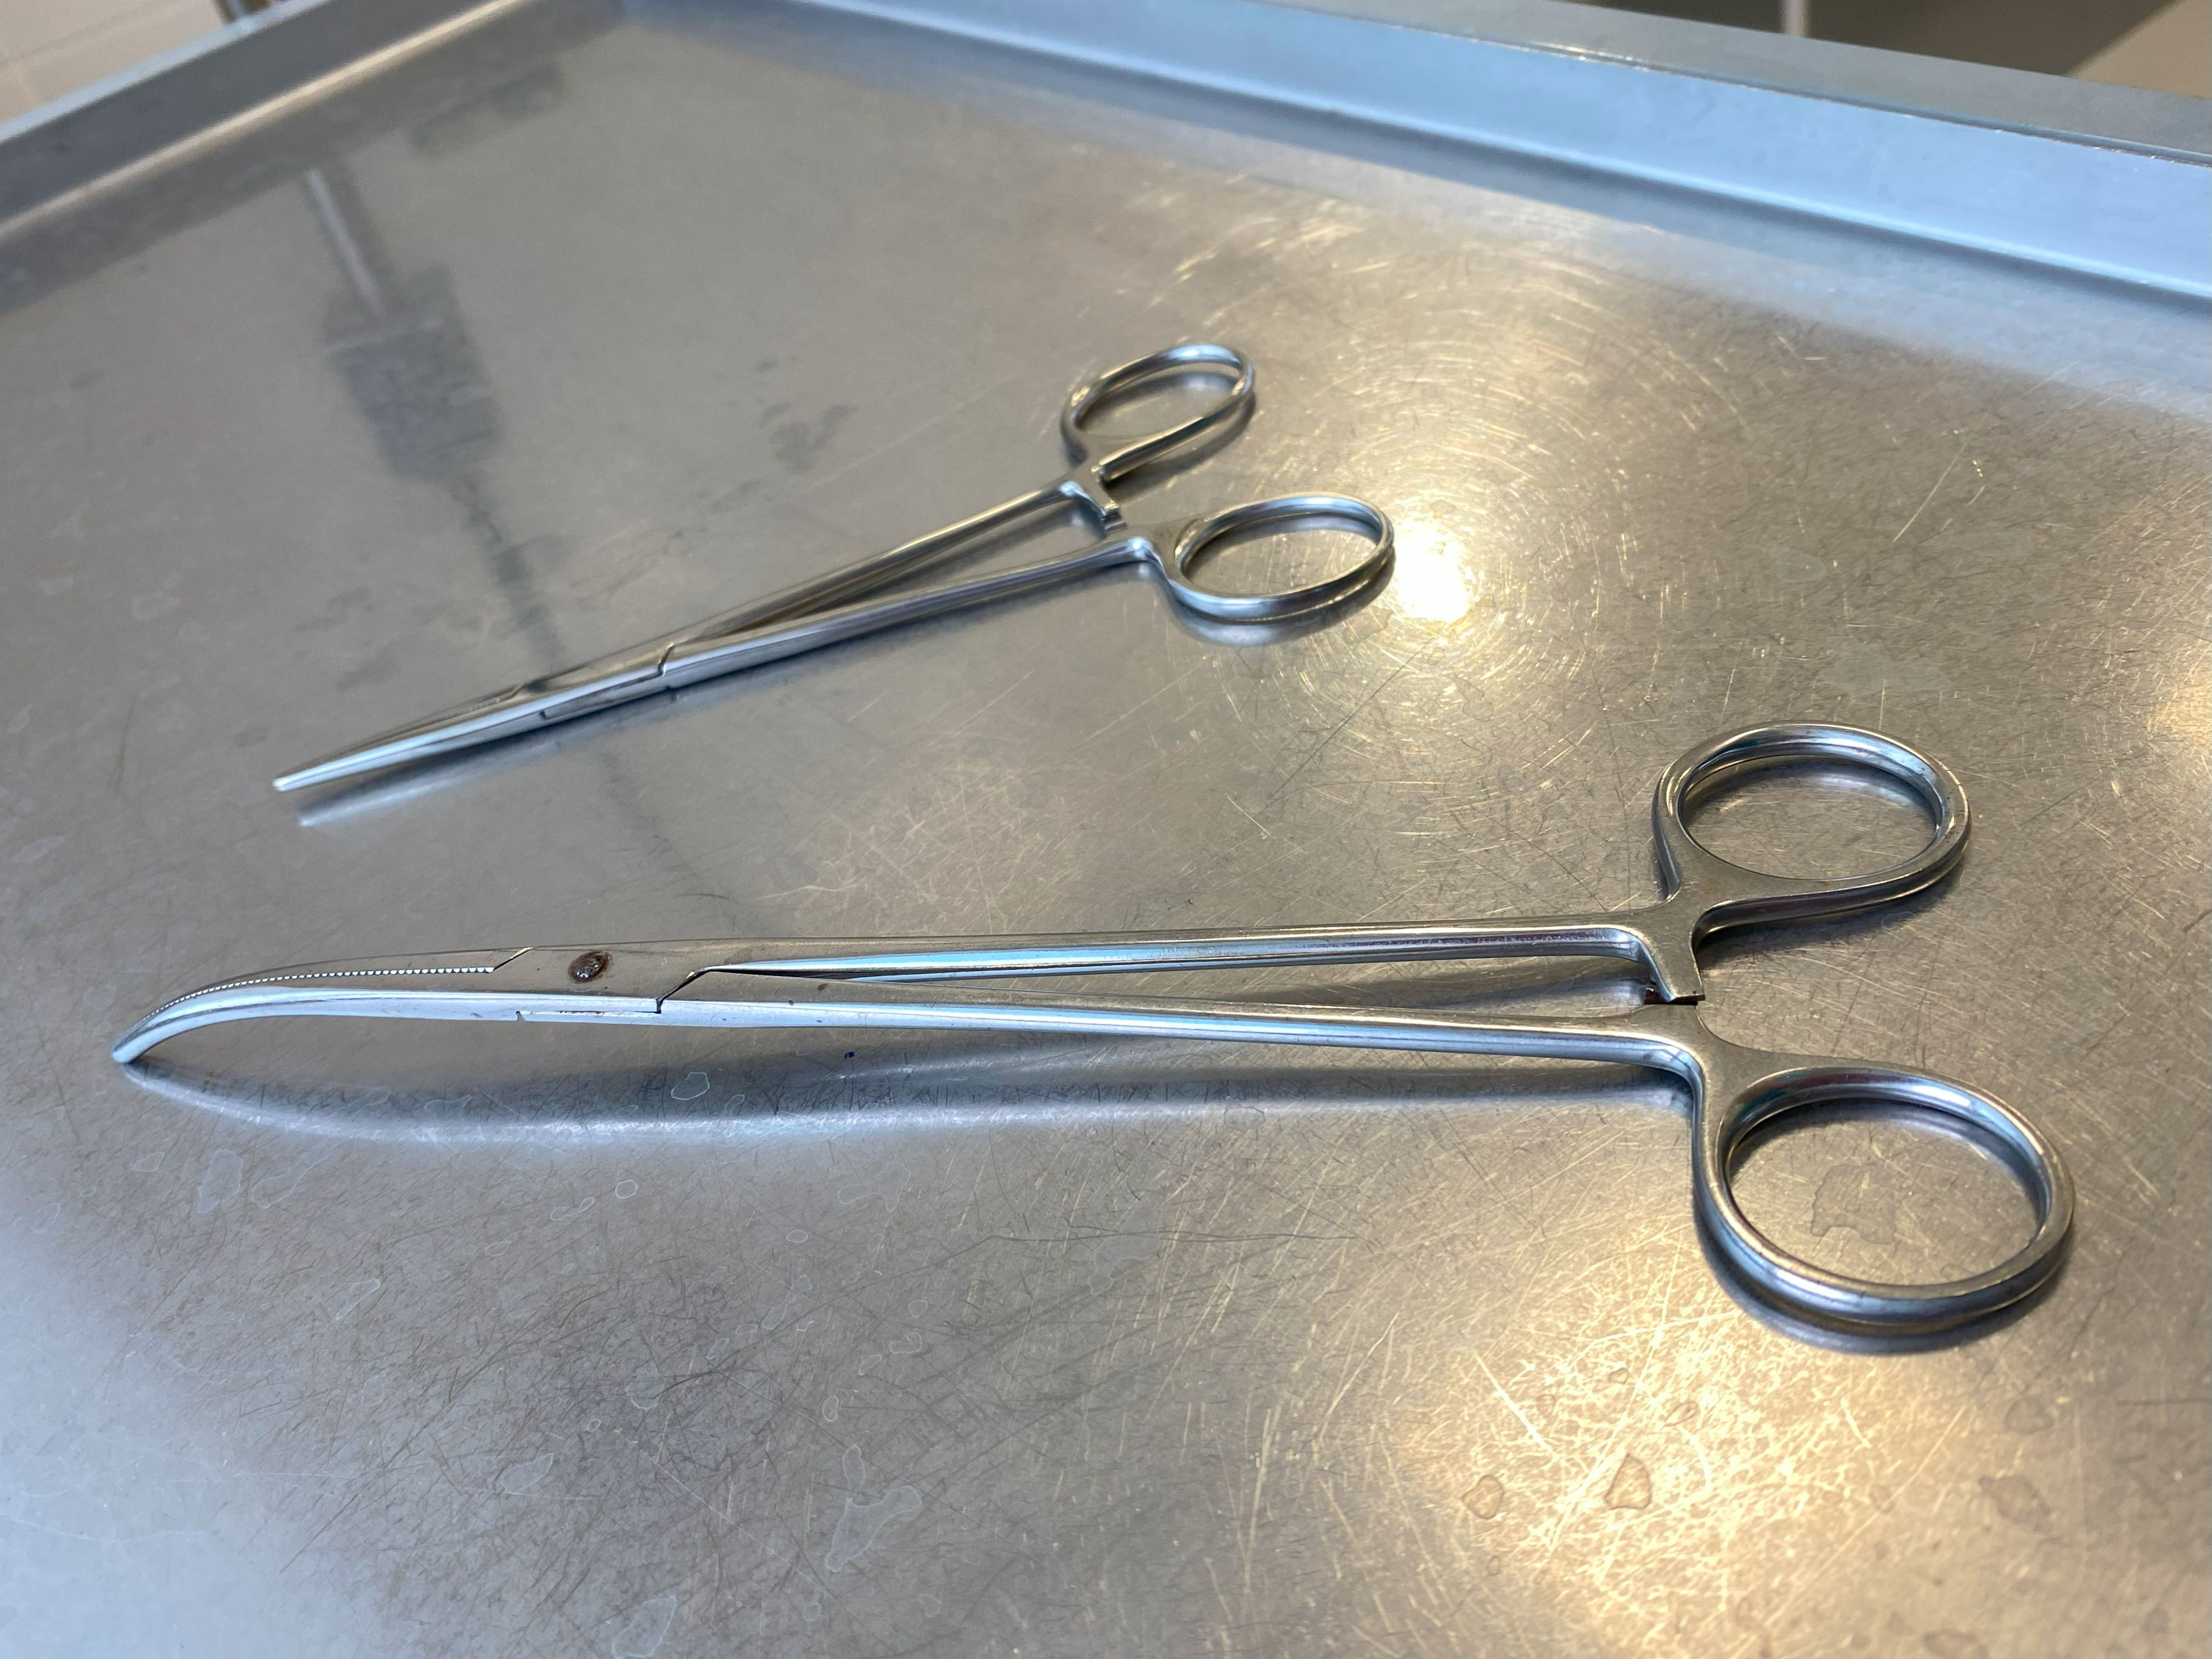clamp: (113, 723, 2073, 1334), (113, 725, 2073, 1331), (273, 342, 1395, 791), (273, 343, 1393, 791)
